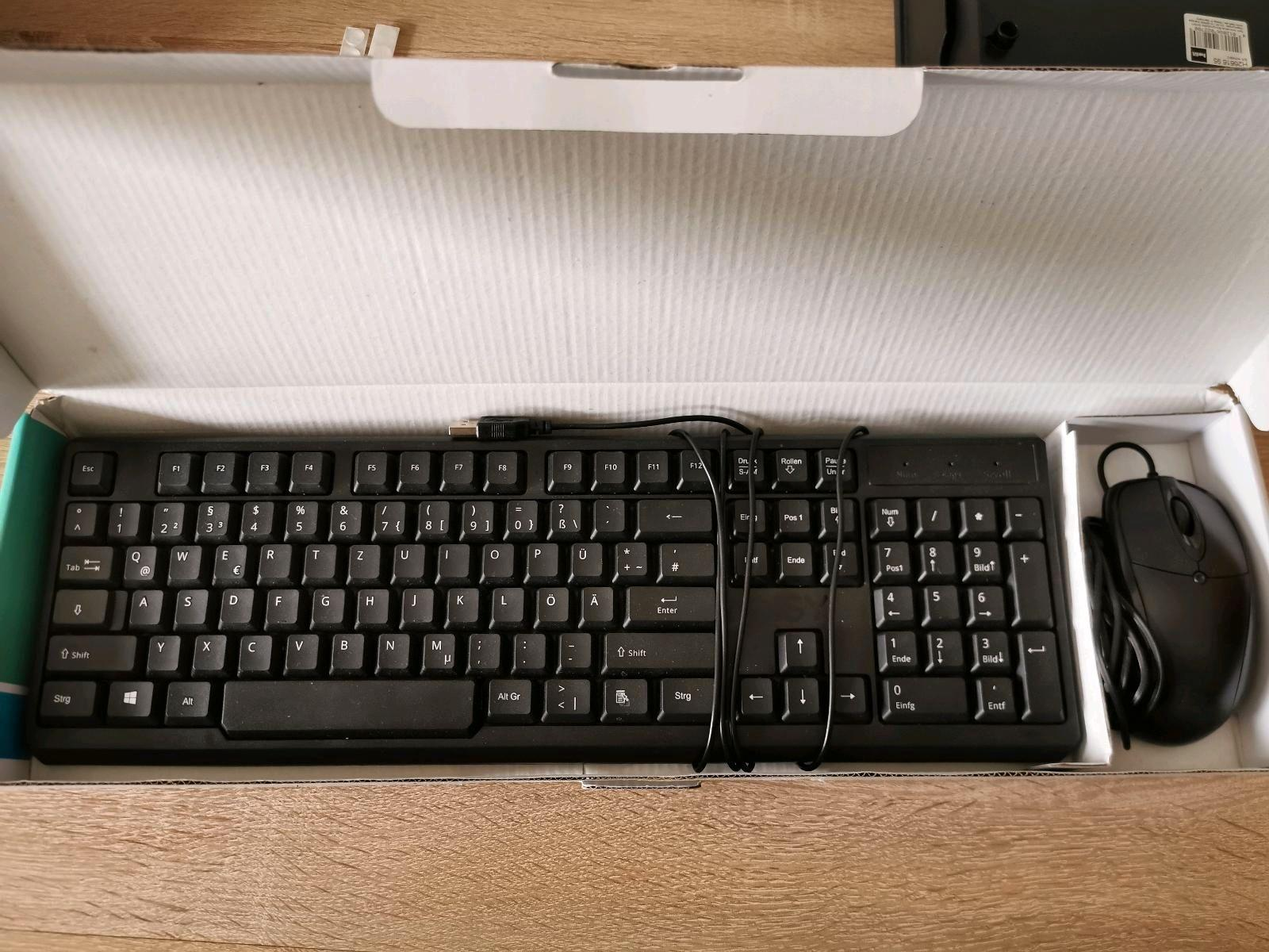0: (502, 495, 537, 534)
1: (104, 498, 139, 536)
2: (148, 497, 183, 536)
3: (193, 497, 228, 536)
4: (239, 497, 272, 535)
5: (282, 497, 317, 535)
6: (326, 497, 362, 535)
7: (370, 496, 404, 536)
8: (413, 496, 449, 536)
9: (458, 496, 493, 536)
a: (126, 585, 161, 623)
accent: (591, 495, 623, 530)
ae: (578, 582, 612, 620)
alt-left: (162, 678, 210, 717)
altgr-right: (484, 675, 531, 713)
b: (328, 629, 362, 667)
c: (236, 631, 270, 668)
caret: (61, 498, 95, 535)
comma: (465, 629, 499, 668)
d: (217, 584, 252, 622)
del: (634, 494, 711, 532)
e: (211, 540, 245, 579)
enter: (623, 583, 715, 621)
f: (263, 585, 297, 622)
g: (309, 585, 343, 621)
h: (354, 585, 387, 621)
hash: (657, 539, 714, 577)
i: (435, 540, 468, 575)
j: (399, 584, 432, 621)
k: (444, 584, 477, 620)
keyboard: (14, 413, 1099, 770)
l: (489, 583, 522, 620)
less: (544, 679, 593, 716)
m: (419, 629, 454, 668)
minus: (555, 629, 589, 666)
n: (374, 629, 408, 666)
o: (478, 539, 512, 575)
oe: (533, 583, 567, 620)
p: (523, 539, 557, 574)
plus: (611, 538, 646, 575)
point: (510, 629, 544, 667)
q: (120, 541, 155, 579)
r: (255, 540, 289, 577)
s: (172, 585, 205, 622)
shift-left: (41, 630, 135, 670)
shift-lock: (49, 586, 107, 624)
shift-right: (602, 628, 713, 667)
space: (218, 674, 474, 732)
ss: (546, 495, 581, 532)
strg-left: (35, 677, 95, 717)
strg-right: (657, 674, 715, 715)
t: (301, 540, 334, 576)
tab: (55, 541, 112, 579)
u: (390, 540, 424, 576)
ue: (567, 539, 601, 574)
v: (282, 629, 317, 666)
w: (165, 541, 200, 578)
x: (190, 631, 224, 667)
y: (144, 631, 178, 668)
z: (345, 540, 378, 577)
